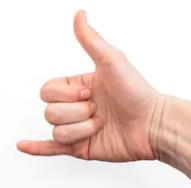clockwise: (13, 9, 156, 161)
